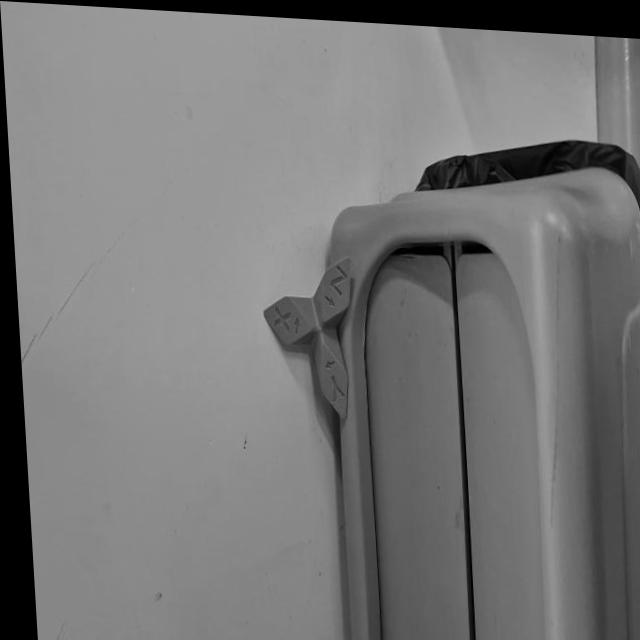eje: (258, 249, 362, 423)
